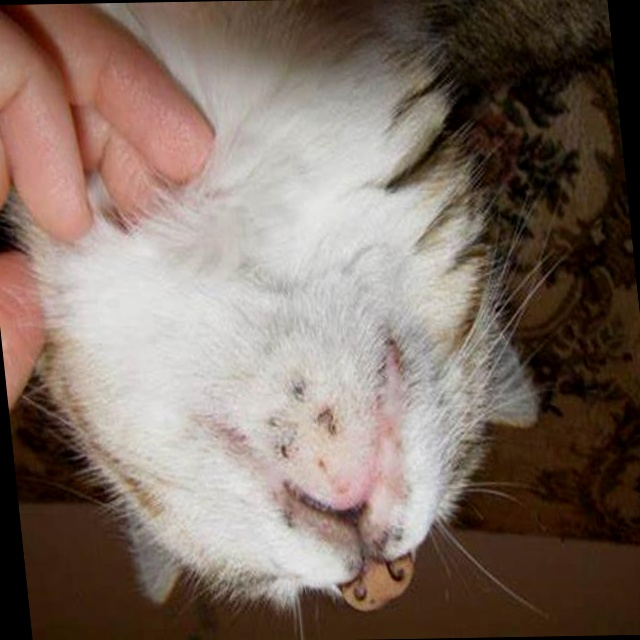acne: (254, 376, 341, 457)
